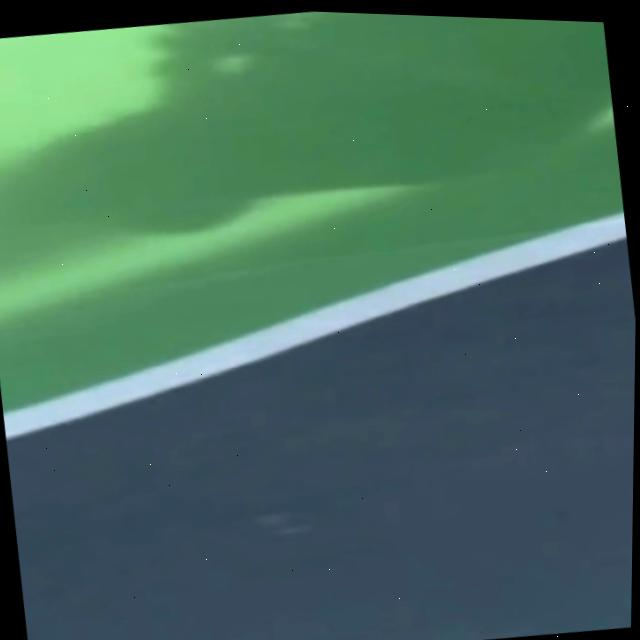right: (3, 212, 626, 438)
